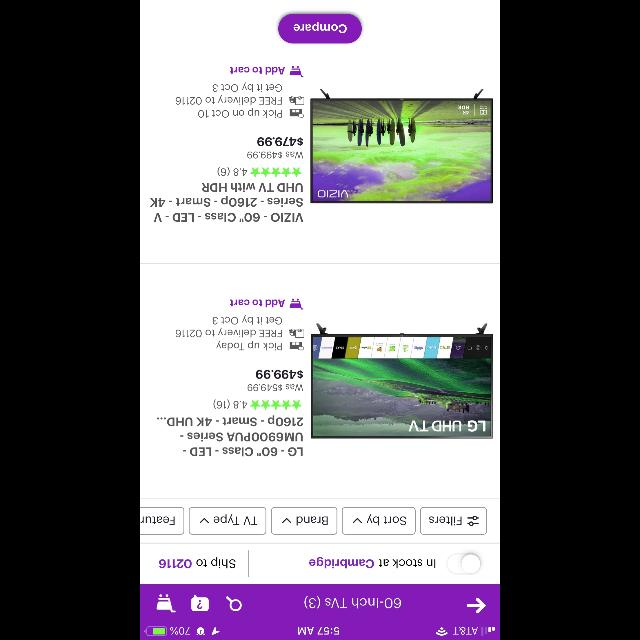icon: (250, 167, 302, 177), (250, 400, 302, 410), (157, 594, 176, 612), (466, 597, 486, 613), (192, 594, 208, 612), (226, 596, 242, 610), (289, 298, 303, 310), (289, 66, 303, 76), (282, 518, 292, 522), (352, 518, 362, 522), (200, 518, 208, 522)
image: (311, 88, 493, 204), (311, 324, 493, 438), (290, 328, 304, 338), (290, 342, 304, 351), (290, 96, 304, 104), (290, 109, 304, 117)
switch: (446, 553, 482, 575)
text: (150, 182, 304, 222), (157, 416, 303, 456), (176, 315, 282, 351), (176, 82, 282, 118), (309, 556, 435, 568), (304, 596, 402, 608), (158, 558, 236, 568), (230, 299, 286, 307), (230, 67, 286, 75), (248, 384, 302, 392), (255, 369, 302, 378), (257, 138, 303, 146), (213, 399, 247, 409), (247, 152, 303, 158), (217, 166, 247, 176)
textbutton: (278, 14, 362, 44), (188, 507, 266, 535), (342, 507, 416, 535), (419, 507, 486, 535), (271, 507, 337, 535), (140, 507, 184, 535)
uppertaskbar: (140, 626, 500, 640)
